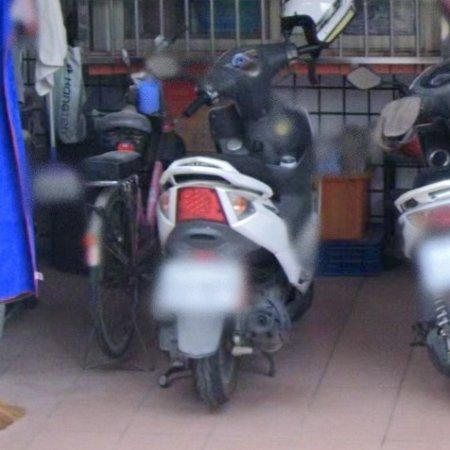motorcycles: (154, 44, 320, 409), (377, 60, 450, 375)
